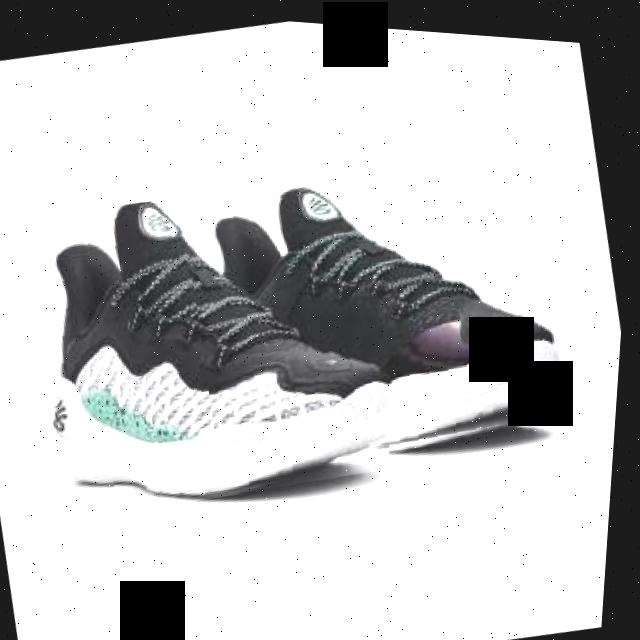shoe: (4, 147, 425, 539), (171, 133, 593, 493)
